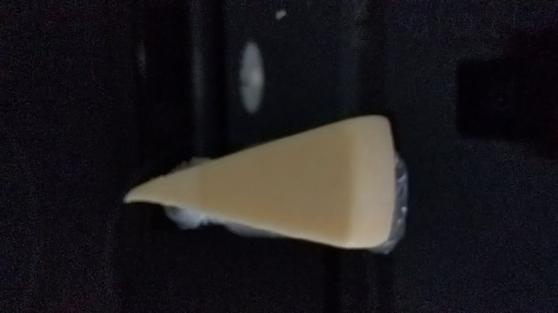cheese: (118, 108, 410, 251)
